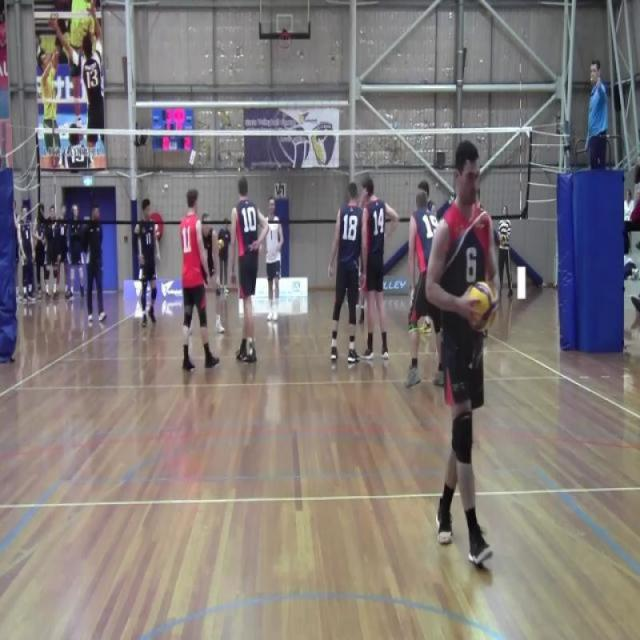volleyball: (466, 279, 496, 334), (217, 237, 225, 252)
